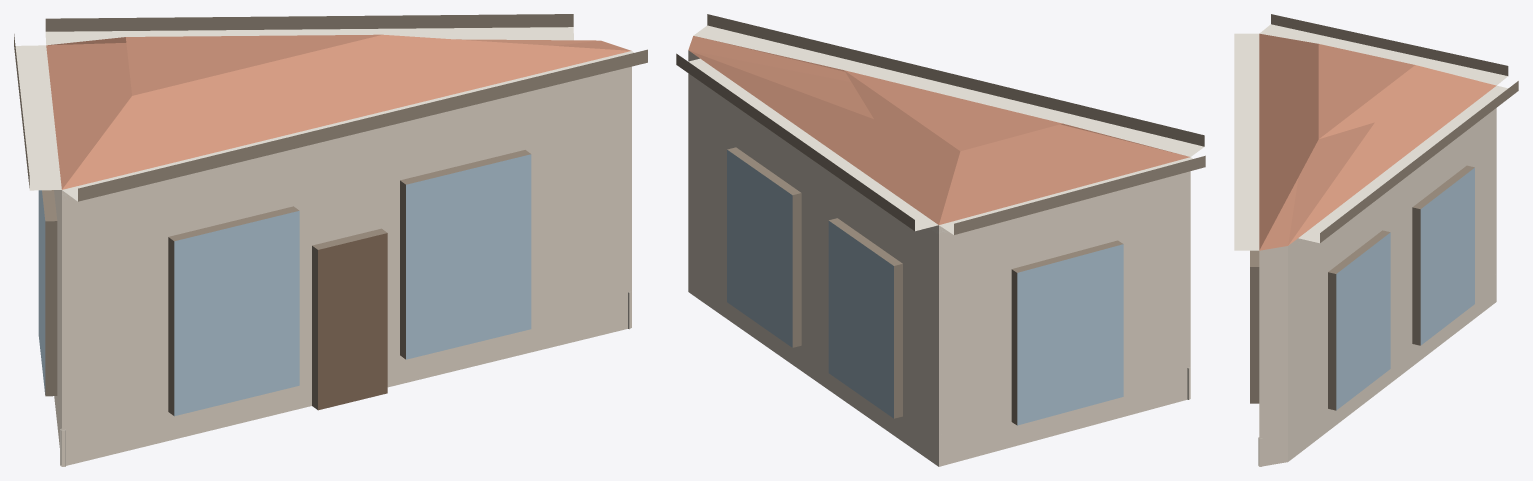
3 views of the same model, side by side, from view 1: azimuth 30°, elevation 25°; view 2: azimuth 150°, elevation 25°; view 3: azimuth 270°, elevation 25° (orthographic). The views are drawn at different scales.
Visible parts, largest first — view 1: N-54#1; view 2: N-54#1; view 3: N-54#1.
Part boxes in pixels (<box>): N-54#1: <box>14,14,647,466</box>; N-54#1: <box>676,14,1205,466</box>; N-54#1: <box>1234,14,1518,466</box>.
Size of the model in its own units: 8.54 by 4.35 by 4.53.
